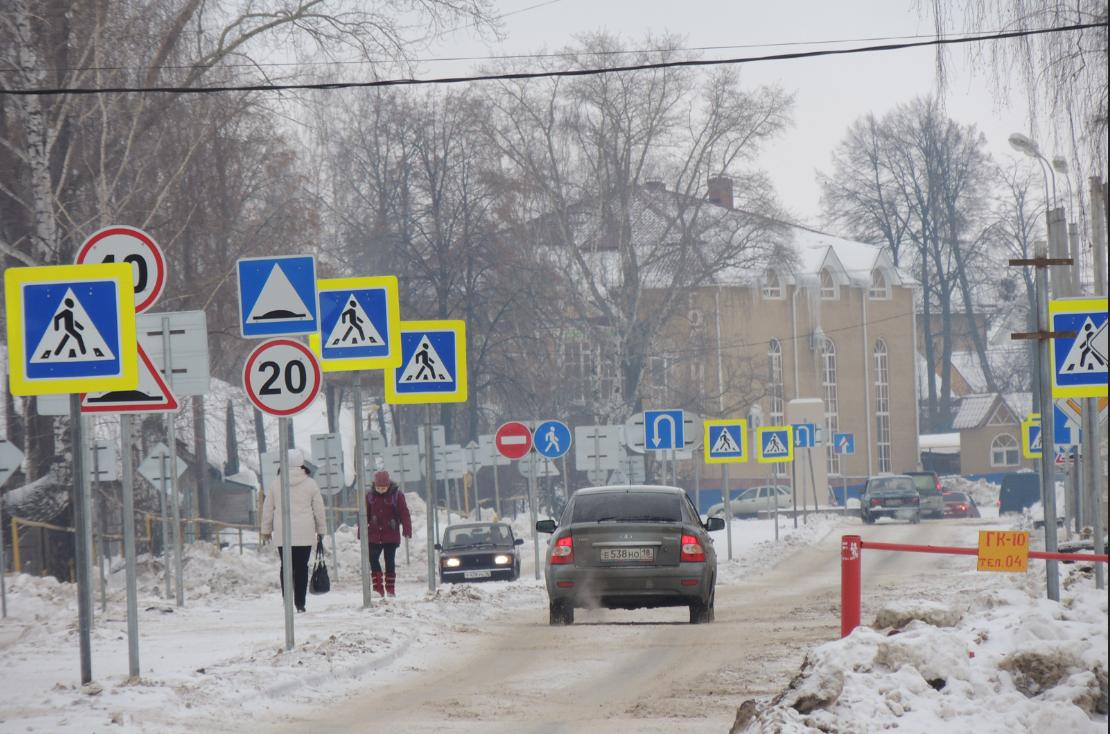obstructed_road_sign: (309, 276, 402, 372), (74, 225, 168, 313), (80, 336, 180, 413), (384, 320, 467, 404), (1049, 299, 1109, 399), (1053, 403, 1083, 445), (1022, 421, 1042, 459)
road_sign: (6, 262, 137, 395), (238, 255, 320, 339), (242, 337, 323, 418), (704, 420, 748, 463), (644, 410, 685, 449), (495, 422, 532, 458), (534, 421, 571, 457), (757, 425, 793, 462), (793, 423, 815, 447), (834, 434, 854, 454)
